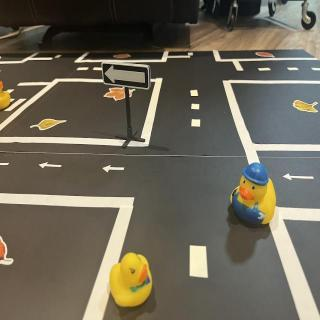duck_regular: (109, 249, 157, 311)
duck_specialty: (227, 163, 280, 230), (1, 76, 14, 112)
road_crosswalk: (1, 94, 31, 115)
road_oneway: (283, 172, 317, 184), (101, 163, 127, 177), (39, 161, 66, 173)
sign_oneway_left: (102, 62, 152, 92)
